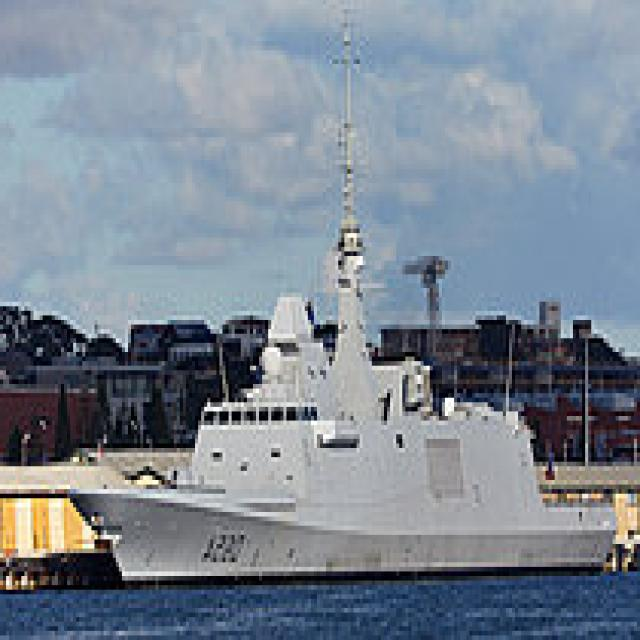Warship: (64, 18, 622, 585)
